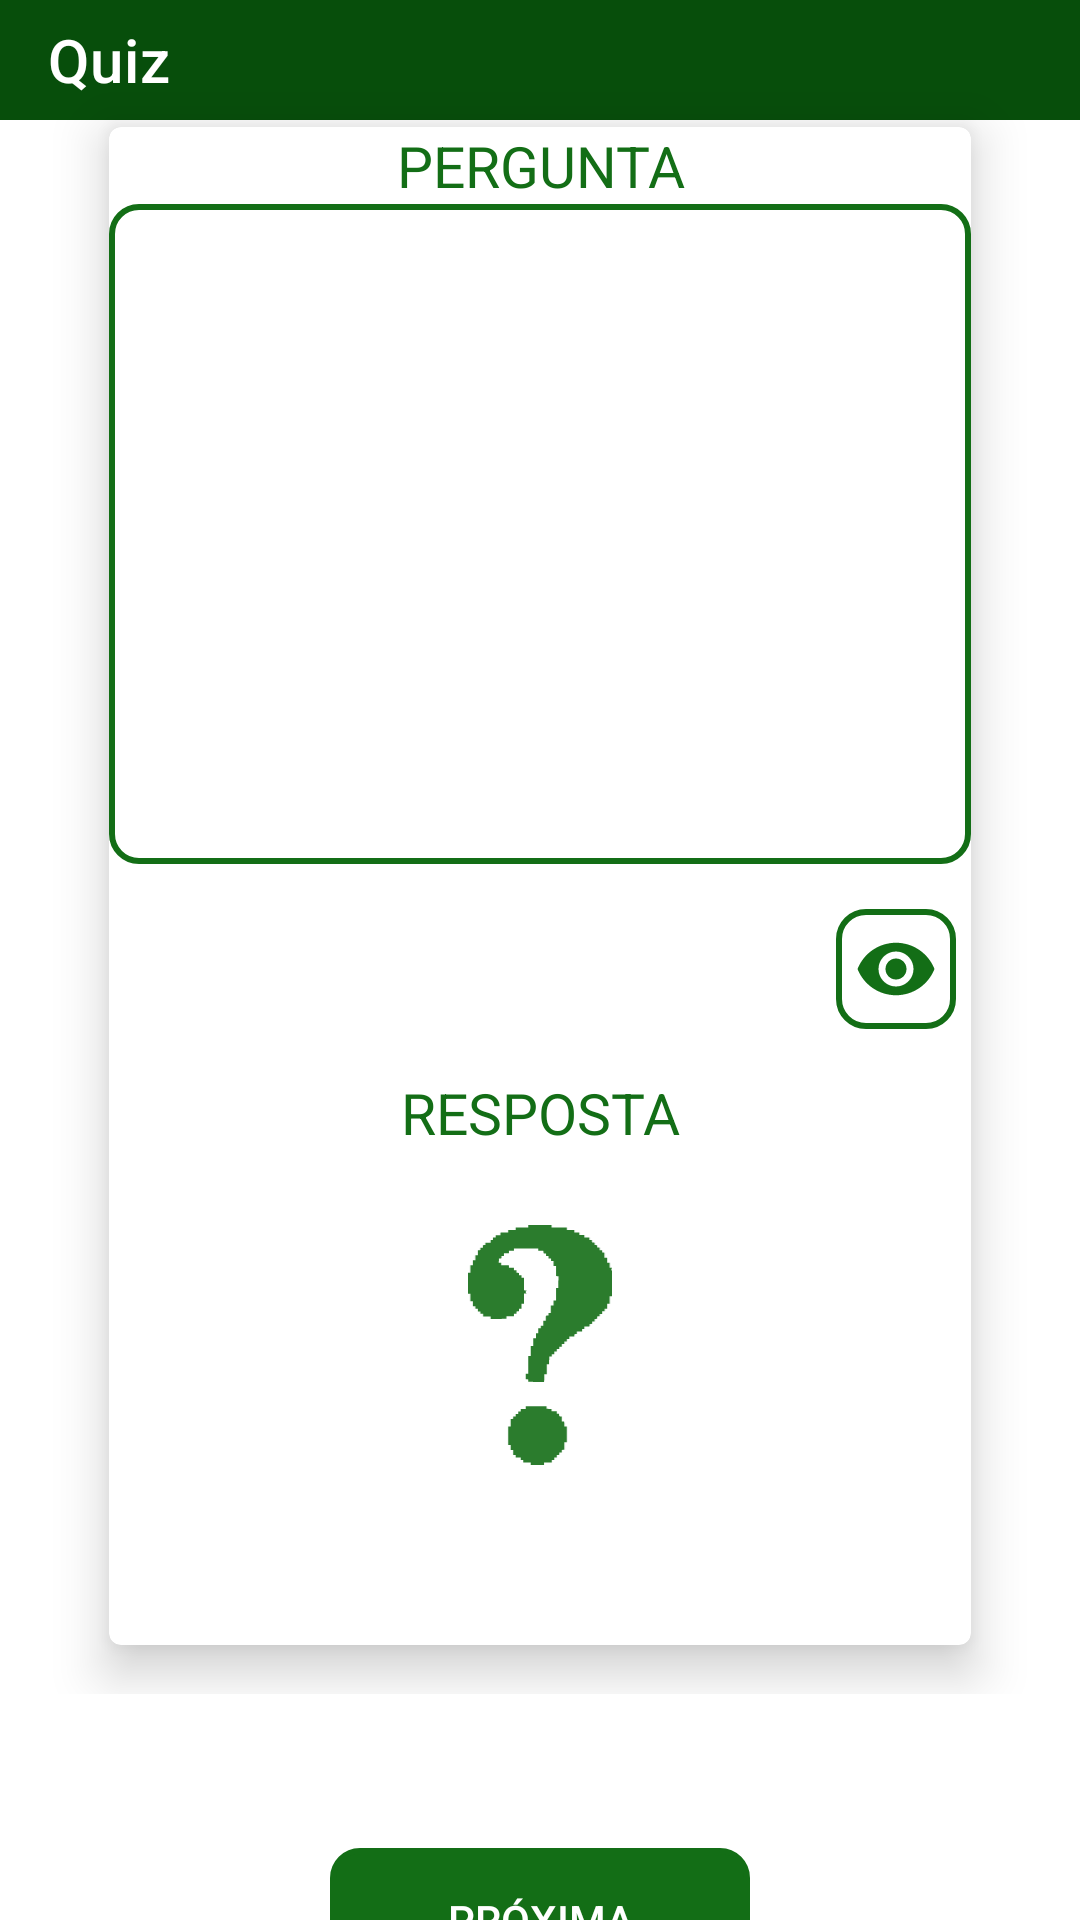

Screen size 1080x1920. Icon name, then its box in pixels as box=[x1, y1, x2, y2]:
eye: box=[836, 909, 956, 1029]
interrogation: box=[468, 1225, 612, 1465]
